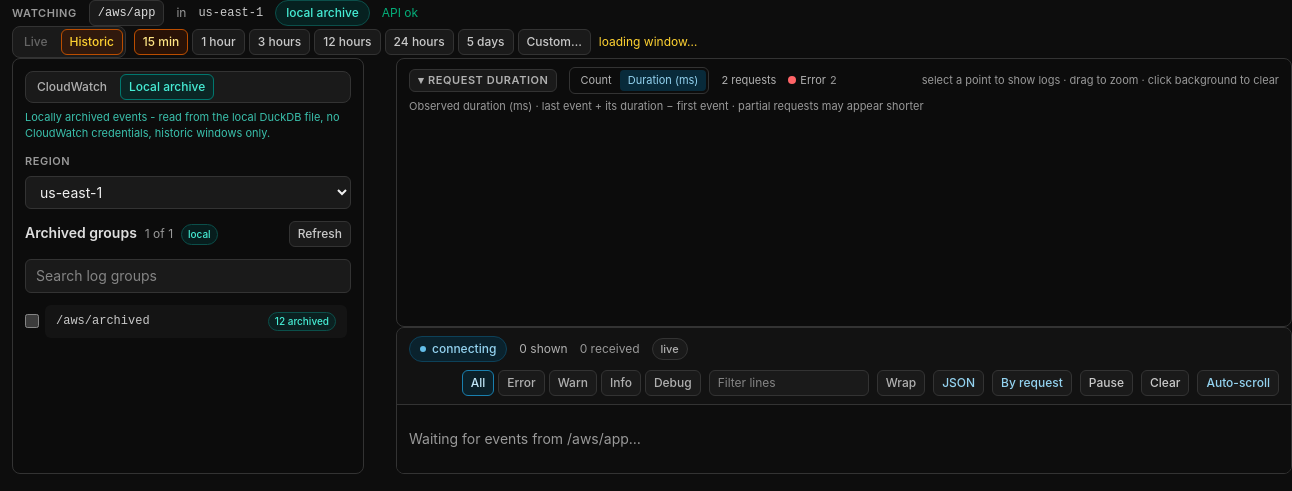
page source switch › switches back to CloudWatch and drops the parameter again
This screenshot has width=1292, height=491.
Click the button with test id "source-cloudwatch". click: (72, 87)
box: [28,74,116,100]
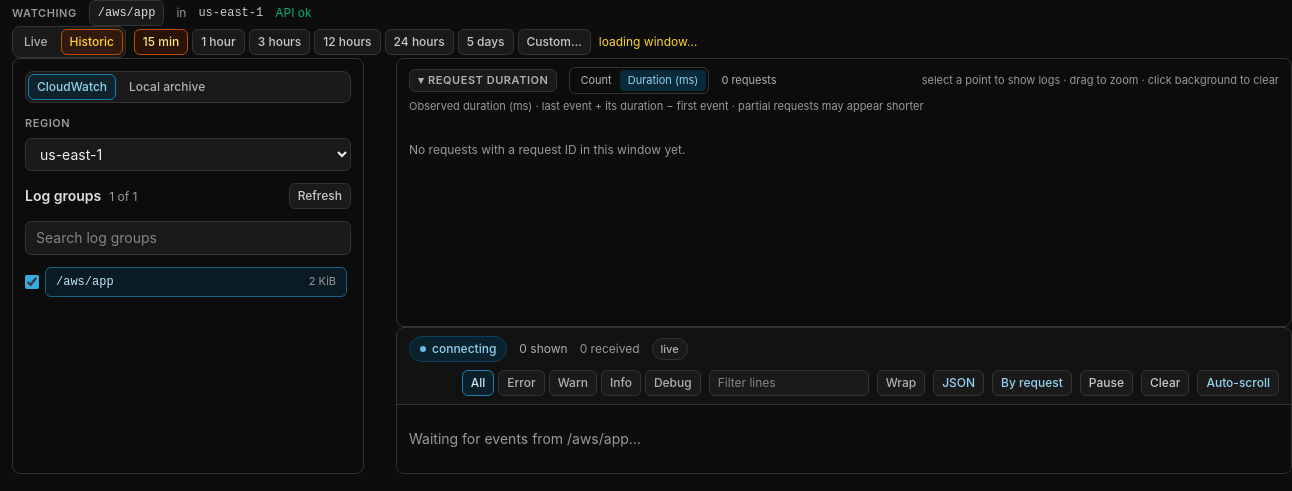
Expected: the text with test id "group-archived-count" is gone
Expected: the text with test id "archive-source-badge" is gone
Expected: the text with test id "group-source-badge" is gone
